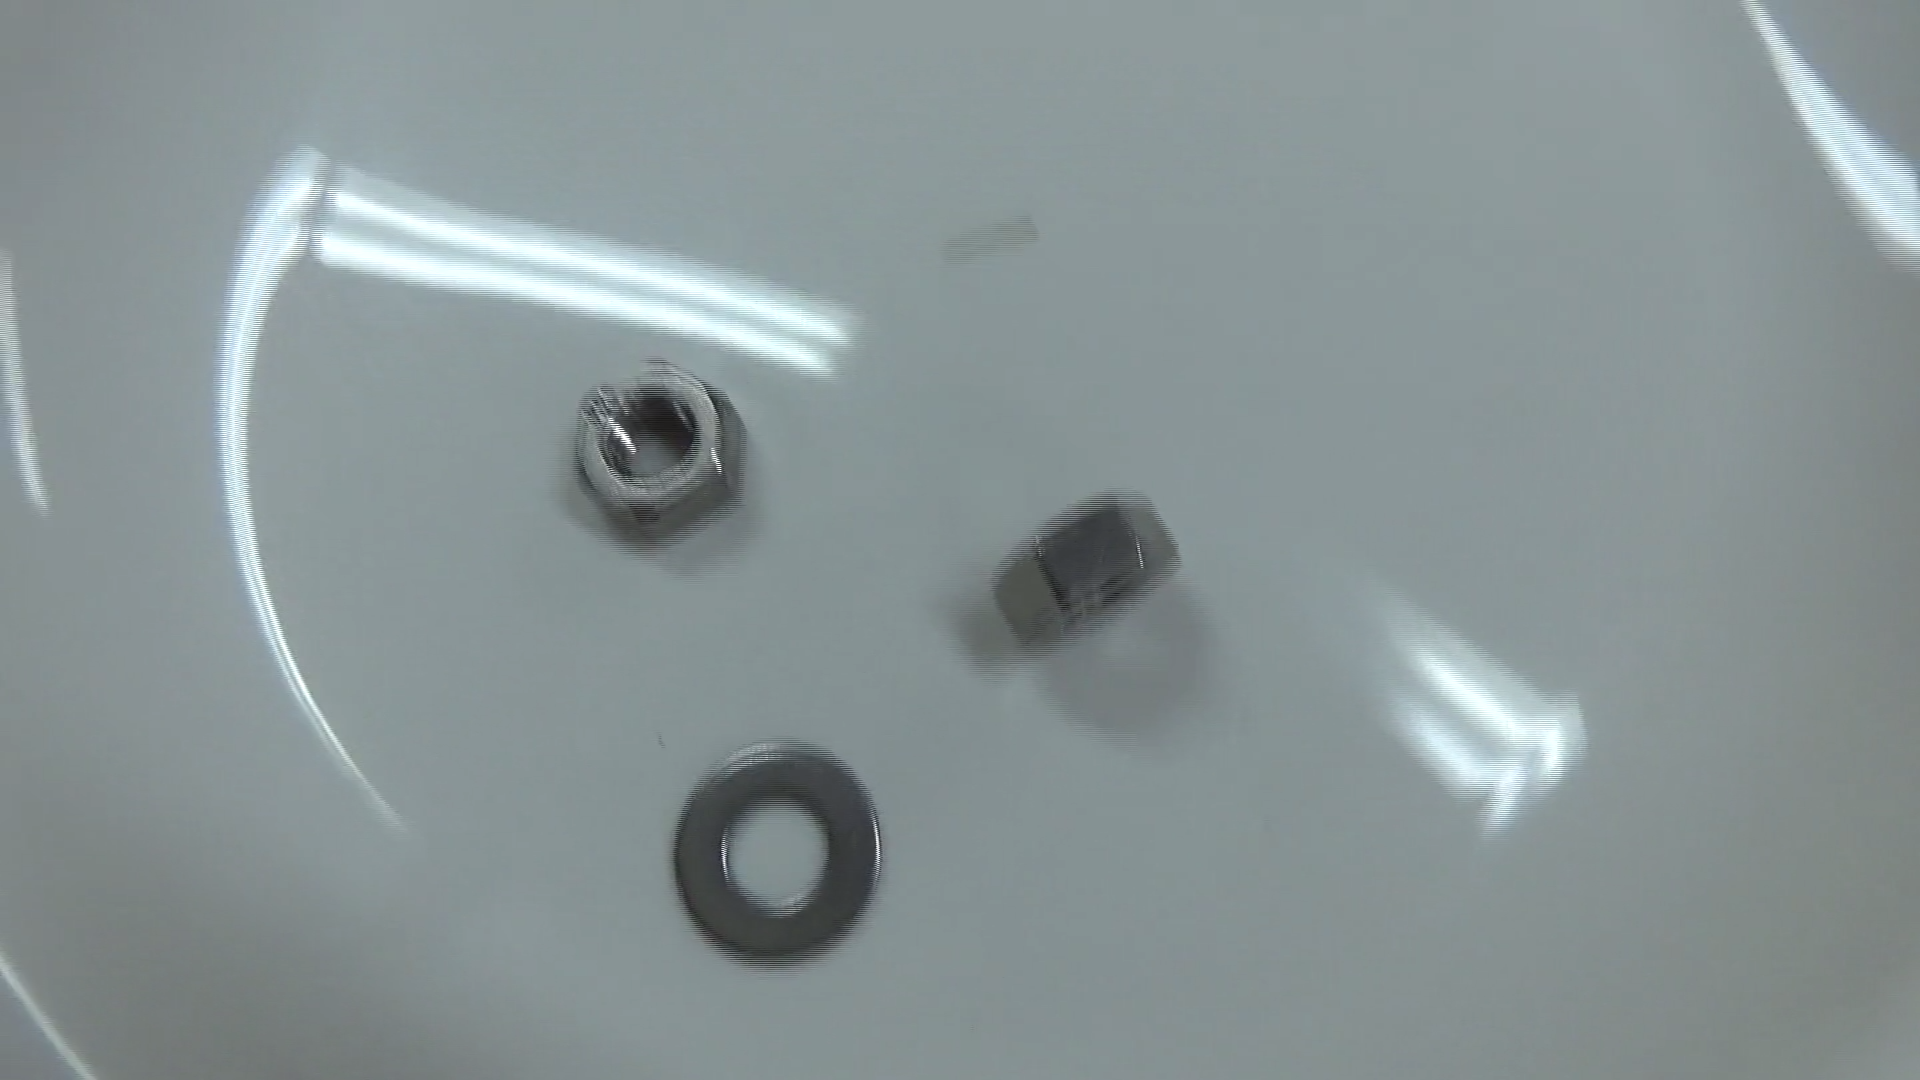nut: (556, 336, 752, 563), (978, 477, 1185, 659)
washer: (651, 725, 891, 972)
